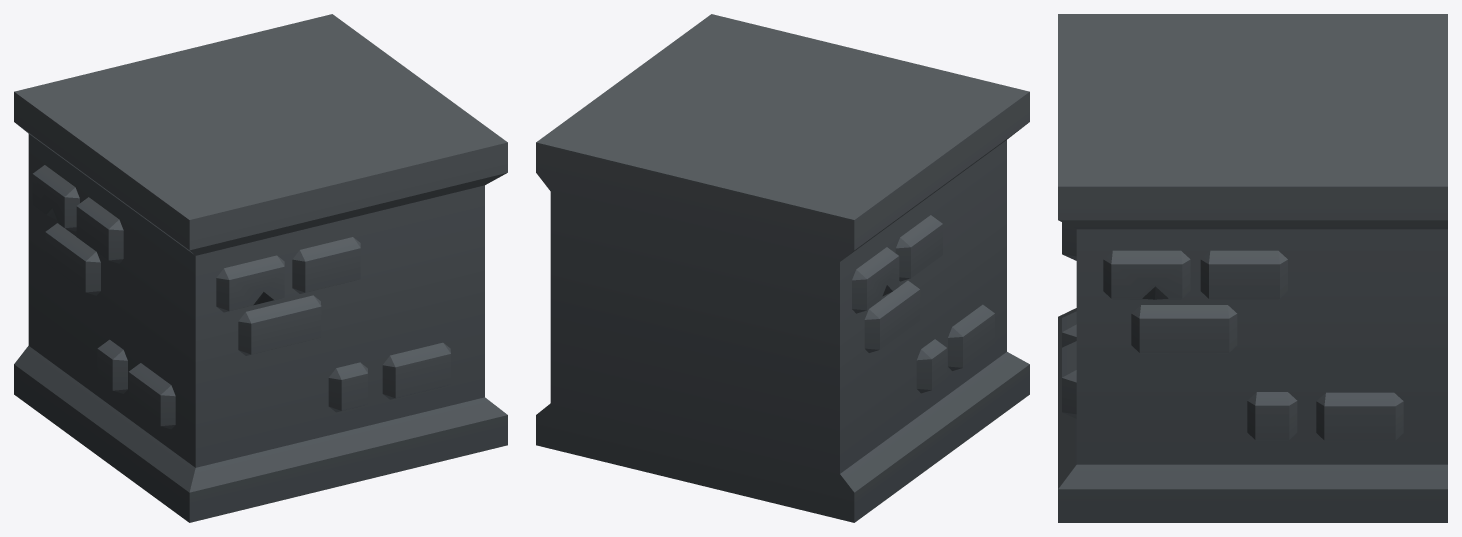
File: floor_foundation_front_and_sides.glb
3 views of the same model, side by side, from view 1: azimuth 30°, elevation 25°; view 2: azimuth 150°, elevation 25°; view 3: azimuth 270°, elevation 25° (orthographic). The views are drawn at different scales.
Parts seen in each view (by area): view 1: floor_foundation_front_and_sides; view 2: floor_foundation_front_and_sides; view 3: floor_foundation_front_and_sides.
Boxes of the visible parts, <box> form: floor_foundation_front_and_sides: <box>14,14,507,522</box>; floor_foundation_front_and_sides: <box>536,14,1029,522</box>; floor_foundation_front_and_sides: <box>1058,14,1447,522</box>.
Bounding box in the file's own units: 2.2 × 2 × 2.1.
1 material, 1 textured.
